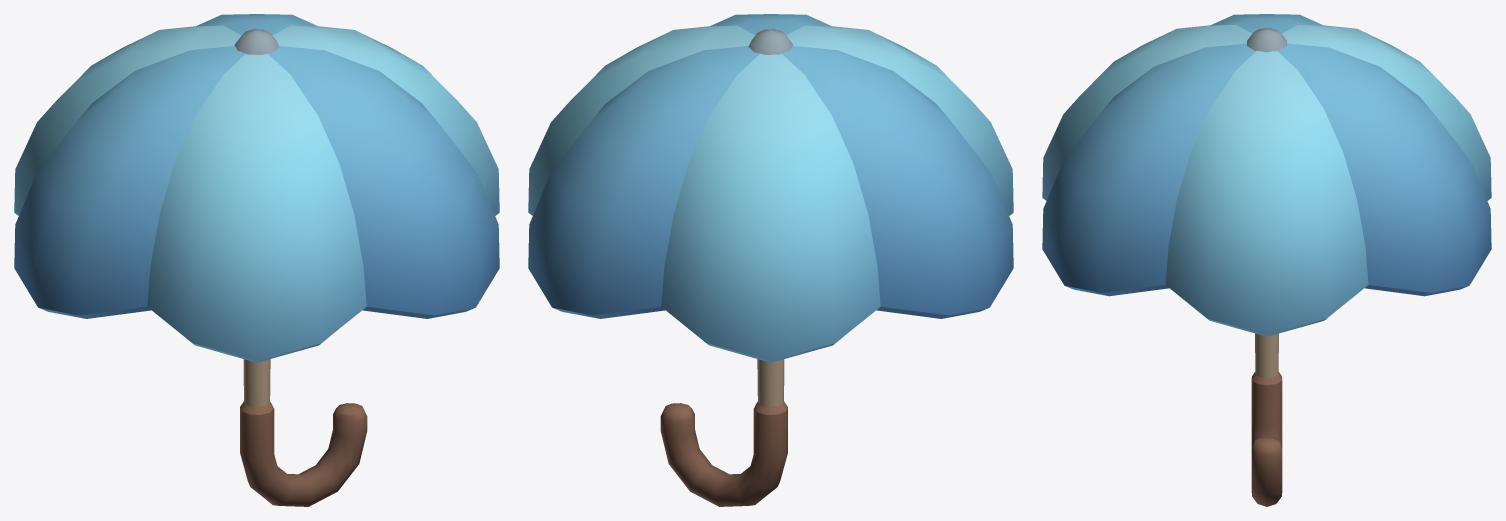
Rendered from umbrella_blue.fbx.
3 renders of one model, left to right at view 1: azimuth 30°, elevation 25°; view 2: azimuth 150°, elevation 25°; view 3: azimuth 270°, elevation 25°, orthographic. The views are drawn at different scales.
Parts seen in each view (by area): view 1: umbrella_blue; view 2: umbrella_blue; view 3: umbrella_blue.
Part boxes in pixels (bbox=[...]): umbrella_blue: bbox=[14, 14, 499, 506]; umbrella_blue: bbox=[528, 14, 1013, 506]; umbrella_blue: bbox=[1042, 14, 1491, 506].
Size of the model in its own units: 1.77 by 1.86 by 1.68.
